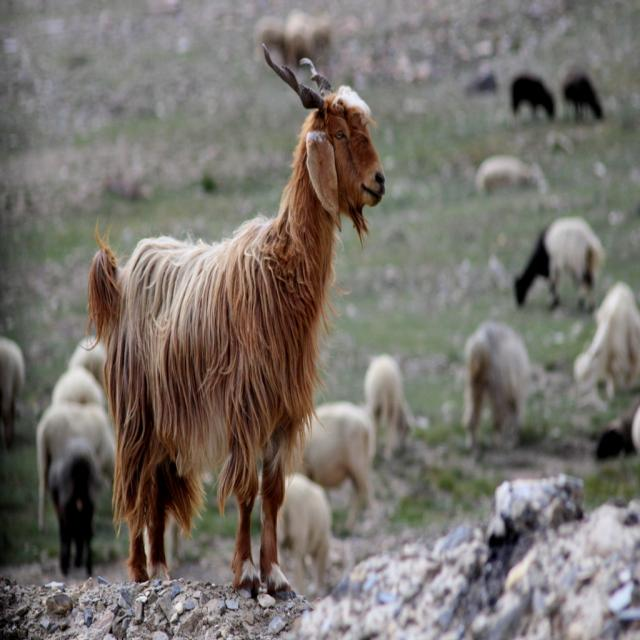Goat: (85, 39, 392, 616)
